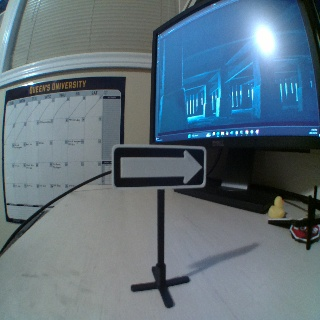sign_oneway_right: (111, 142, 204, 188)
